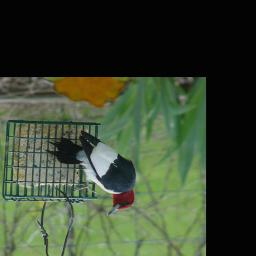Woodpecker: (45, 130, 136, 215)
